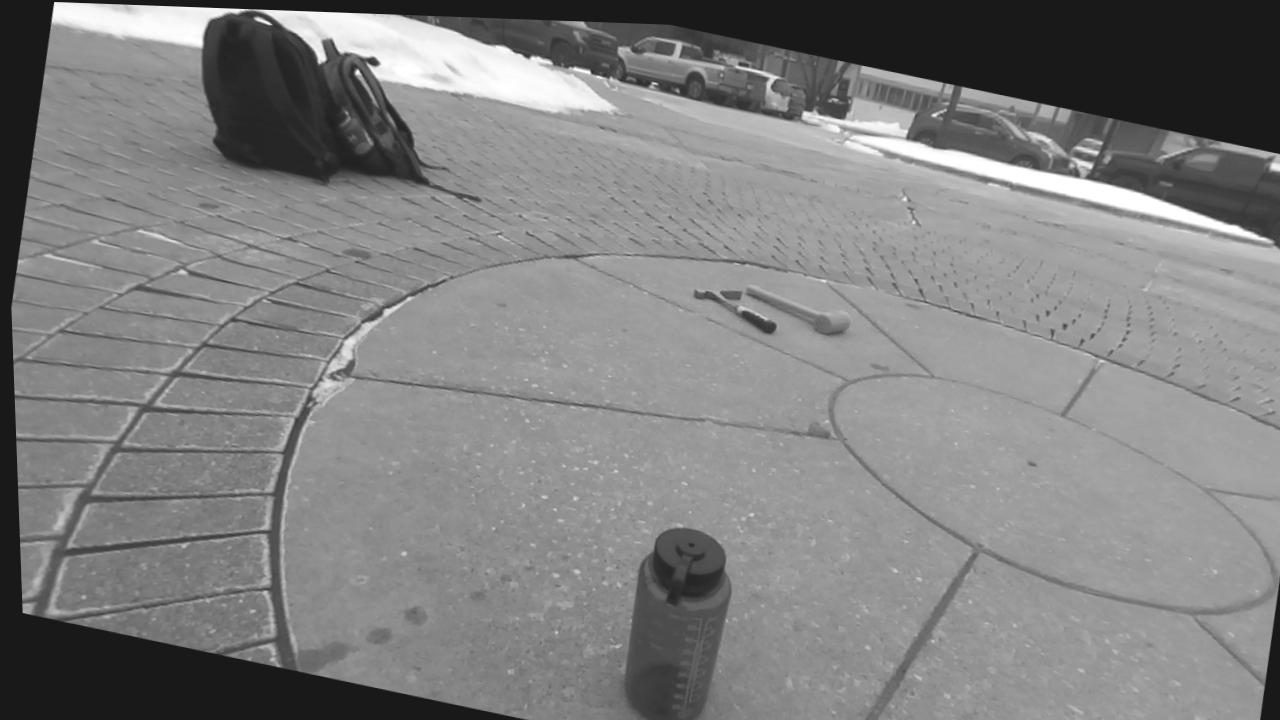bottle: (624, 527, 731, 720)
mallet: (743, 284, 850, 332)
pick: (694, 289, 775, 332)
